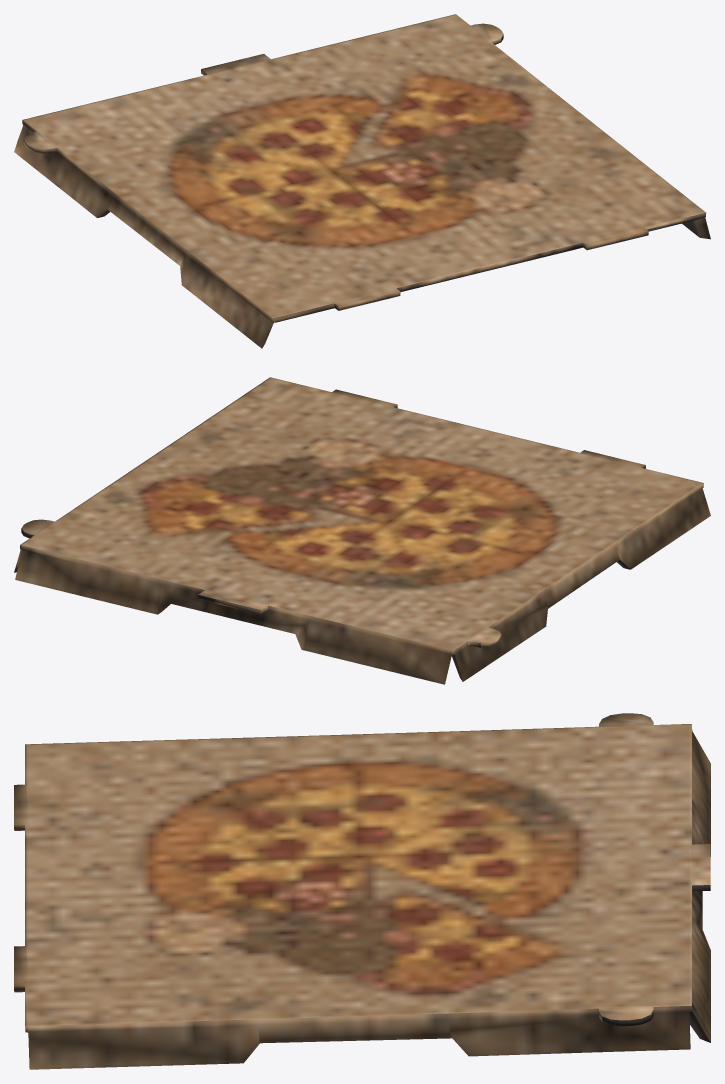
File: pizza-lid.fbx
3 views of the same model, one above another, from view 1: azimuth 30°, elevation 25°; view 2: azimuth 150°, elevation 25°; view 3: azimuth 270°, elevation 25° (orthographic). The views are drawn at different scales.
Parts seen in each view (by area): view 1: Pizza-Lid; view 2: Pizza-Lid; view 3: Pizza-Lid.
Part boxes in pixels (bbox=[...]): Pizza-Lid: bbox=[14, 14, 710, 348]; Pizza-Lid: bbox=[14, 377, 710, 684]; Pizza-Lid: bbox=[14, 713, 710, 1069].
Size of the model in its own units: 220 by 20.16 by 211.
1 material, 1 textured.
